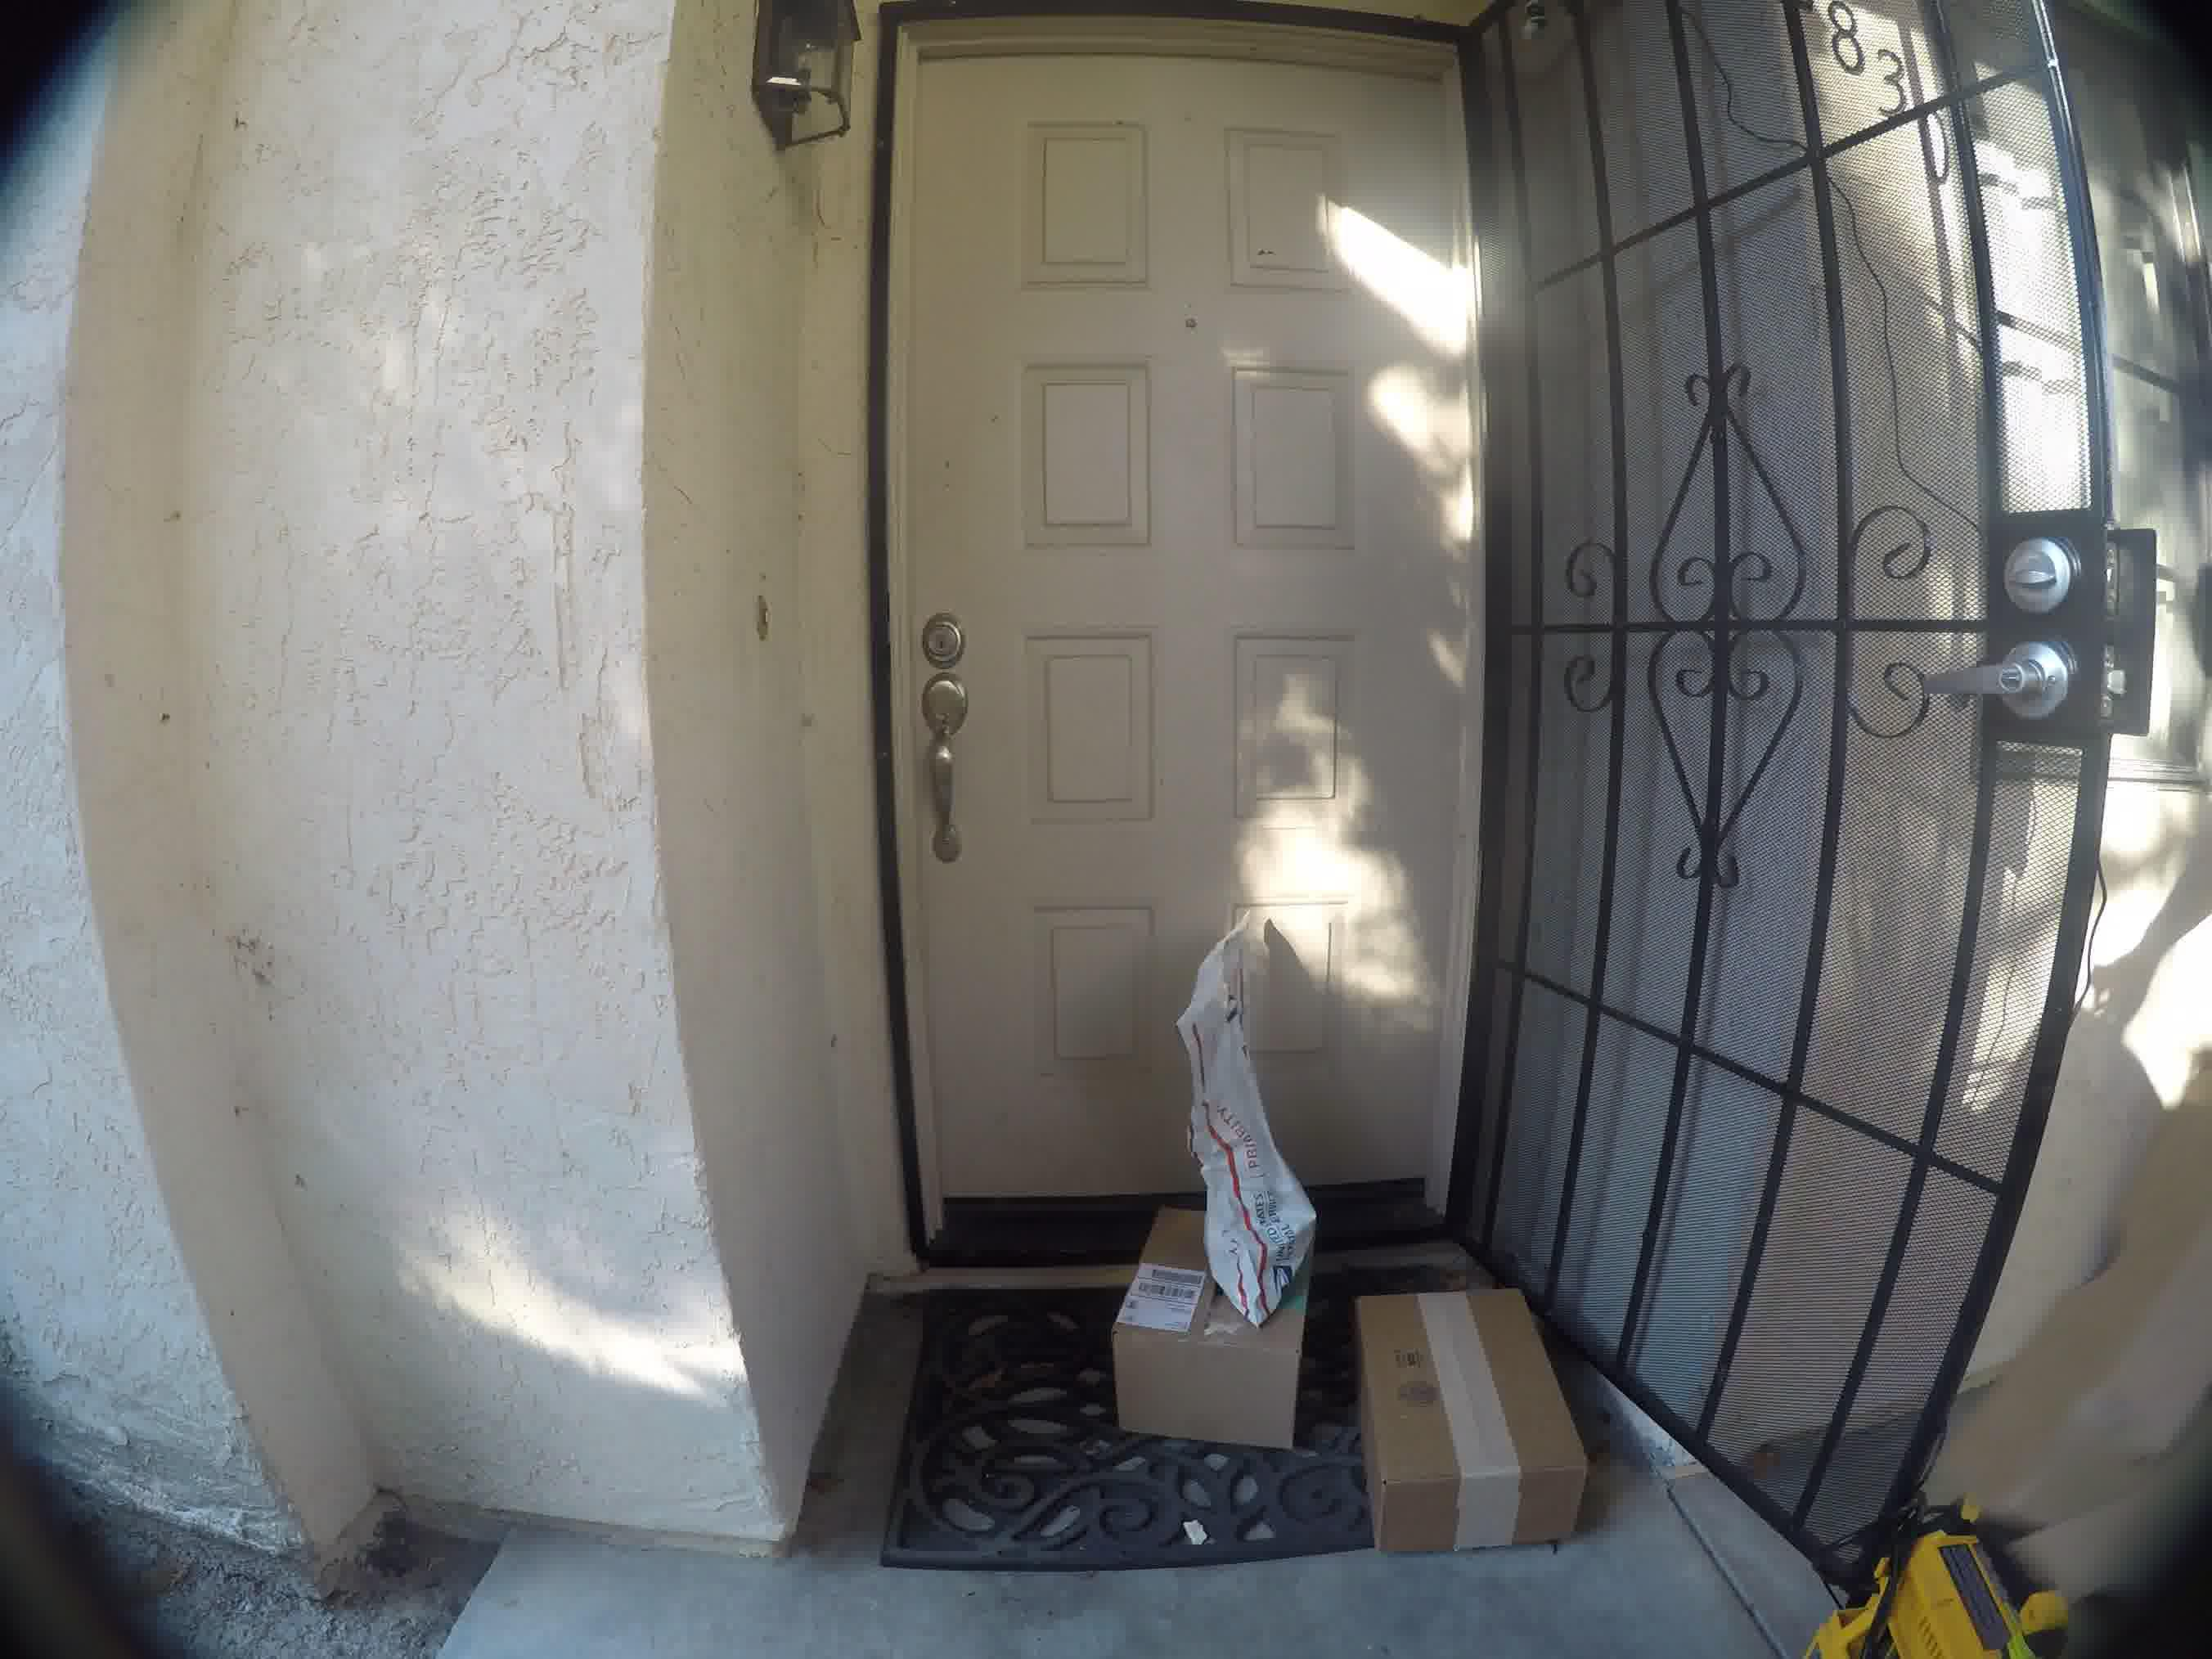box: (1346, 1279, 1583, 1523), (1109, 1279, 1310, 1452)
plastic_bag: (1148, 896, 1317, 1293)
